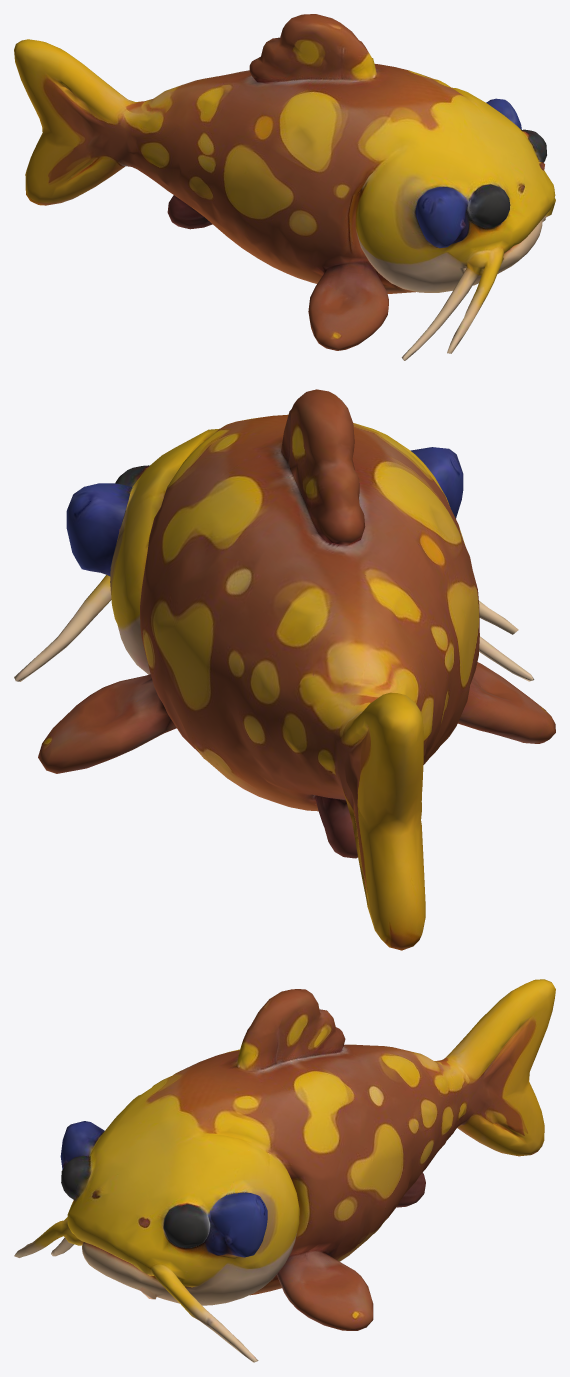
File: bagrid.glb
The picture shows the model from 3 angles, top to bottom: view 1: azimuth 30°, elevation 25°; view 2: azimuth 150°, elevation 25°; view 3: azimuth 270°, elevation 25°; orthographic projection. The views are drawn at different scales.
Parts seen in each view (by area): view 1: tripo_node_bcb022ab-a0c1-4040-b7c5-b83751d5f443; view 2: tripo_node_bcb022ab-a0c1-4040-b7c5-b83751d5f443; view 3: tripo_node_bcb022ab-a0c1-4040-b7c5-b83751d5f443.
Part boxes in pixels (left/top/right/bottom): tripo_node_bcb022ab-a0c1-4040-b7c5-b83751d5f443: left=14, top=14, right=555, bottom=360; tripo_node_bcb022ab-a0c1-4040-b7c5-b83751d5f443: left=14, top=389, right=555, bottom=950; tripo_node_bcb022ab-a0c1-4040-b7c5-b83751d5f443: left=14, top=979, right=555, bottom=1362.
Bounding box in the file's own units: 0.8925 × 0.5676 × 1.
1 material, 1 textured.
